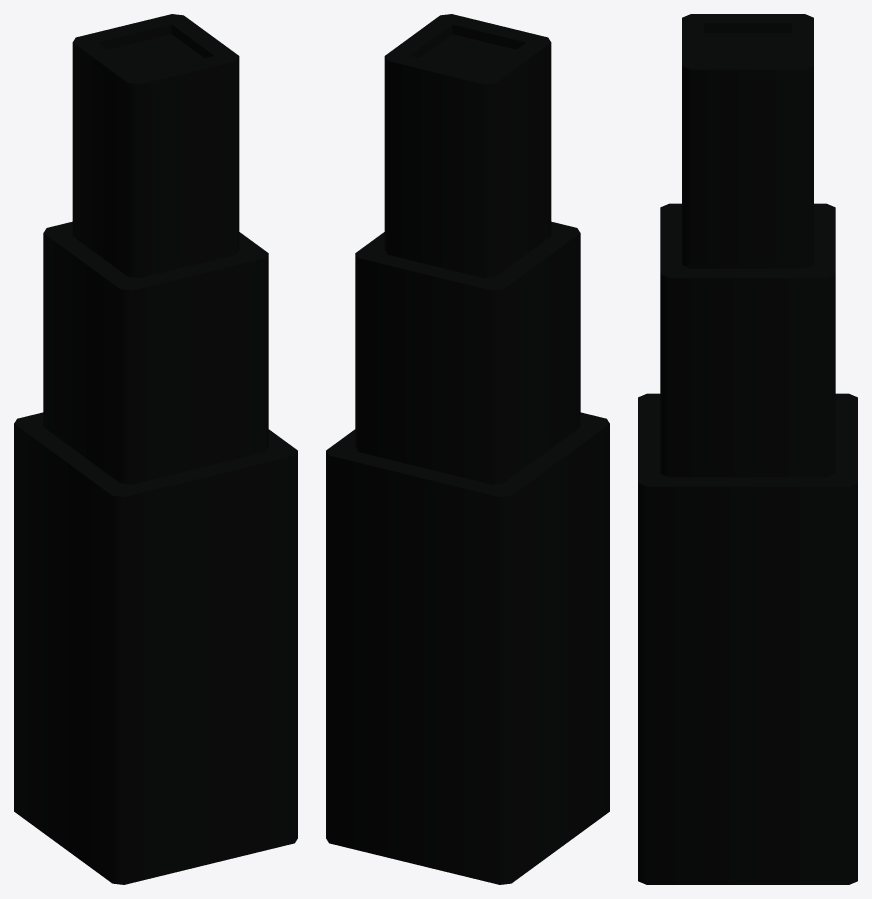
Rendered from low-detail-building-f.glb.
3 views of the same model, side by side, from view 1: azimuth 30°, elevation 25°; view 2: azimuth 150°, elevation 25°; view 3: azimuth 270°, elevation 25° (orthographic). The views are drawn at different scales.
Visible parts, largest first — view 1: low-detail-building-f; view 2: low-detail-building-f; view 3: low-detail-building-f.
Boxes of the visible parts, <box> form: low-detail-building-f: <box>14,14,297,884</box>; low-detail-building-f: <box>326,14,609,884</box>; low-detail-building-f: <box>638,14,857,884</box>.
Bounding box in the file's own units: 0.5003 × 2 × 0.5003.
Materials: 1 (1 with a texture image).
